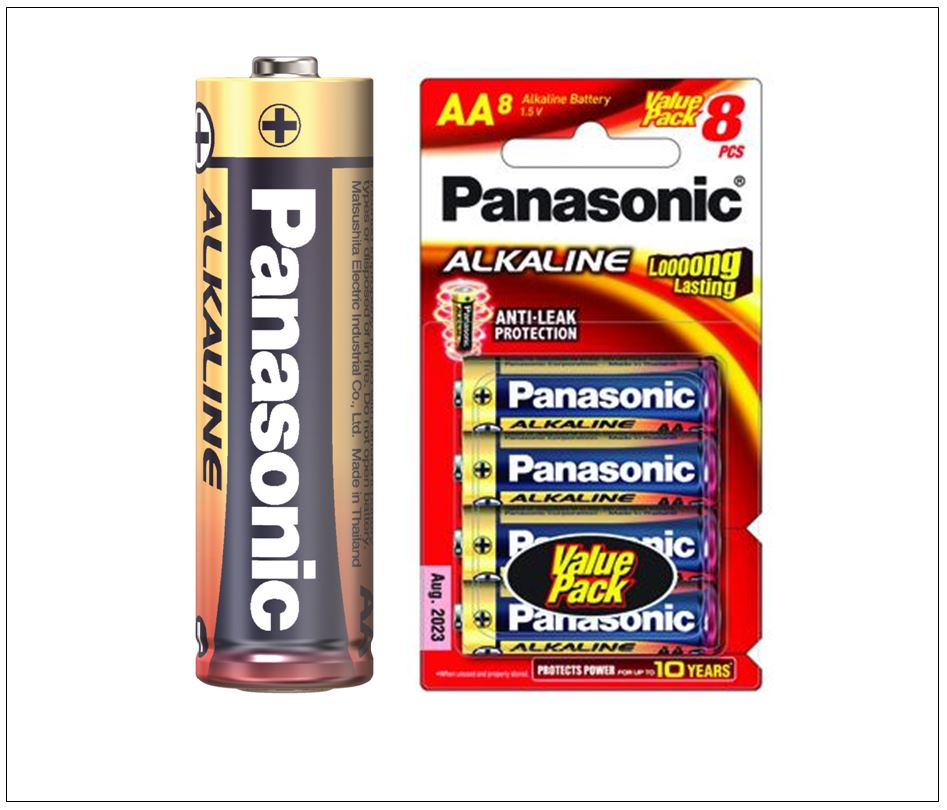Battery: (188, 52, 378, 696), (451, 431, 720, 506), (453, 359, 720, 432)
